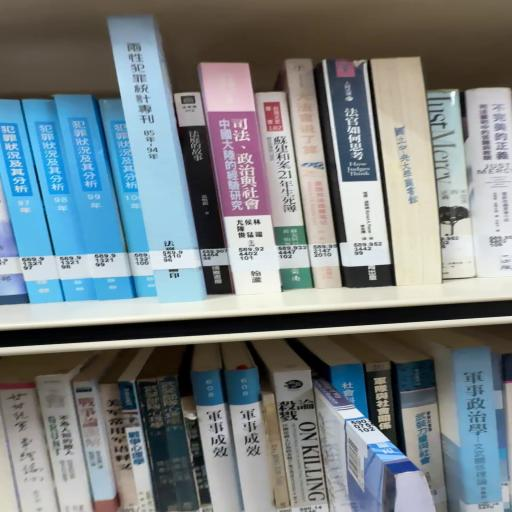backward: (369, 54, 441, 285)
book: (103, 17, 203, 309), (199, 67, 283, 301), (320, 57, 397, 285), (283, 64, 347, 292), (253, 74, 298, 298), (465, 85, 512, 278)
